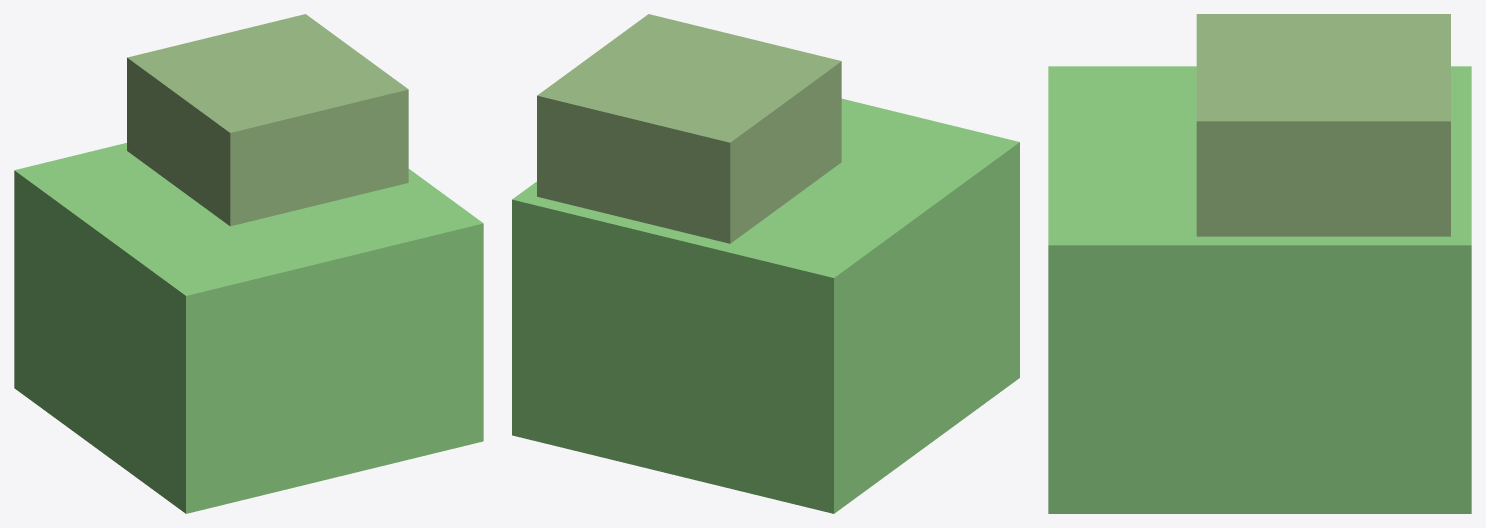
The model's file is Prop_Dress_AMF_Bush_V7.glb.
3 renders of one model, left to right at view 1: azimuth 30°, elevation 25°; view 2: azimuth 150°, elevation 25°; view 3: azimuth 270°, elevation 25°, orthographic. The views are drawn at different scales.
Visible parts, largest first — view 1: Prop_Dress_AMF_Bush_V7; view 2: Prop_Dress_AMF_Bush_V7; view 3: Prop_Dress_AMF_Bush_V7.
Part boxes in pixels (x1,y1,x2,y2): Prop_Dress_AMF_Bush_V7: (14, 14, 483, 513); Prop_Dress_AMF_Bush_V7: (512, 14, 1019, 513); Prop_Dress_AMF_Bush_V7: (1048, 14, 1471, 513).
Bounding box in the file's own units: 0.6635 × 0.6635 × 0.6635.
